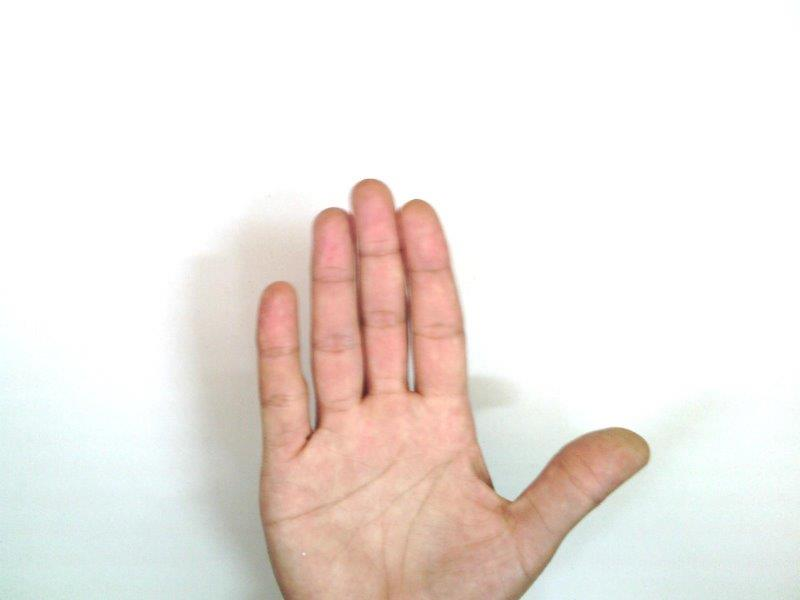hand: (256, 180, 651, 600)
